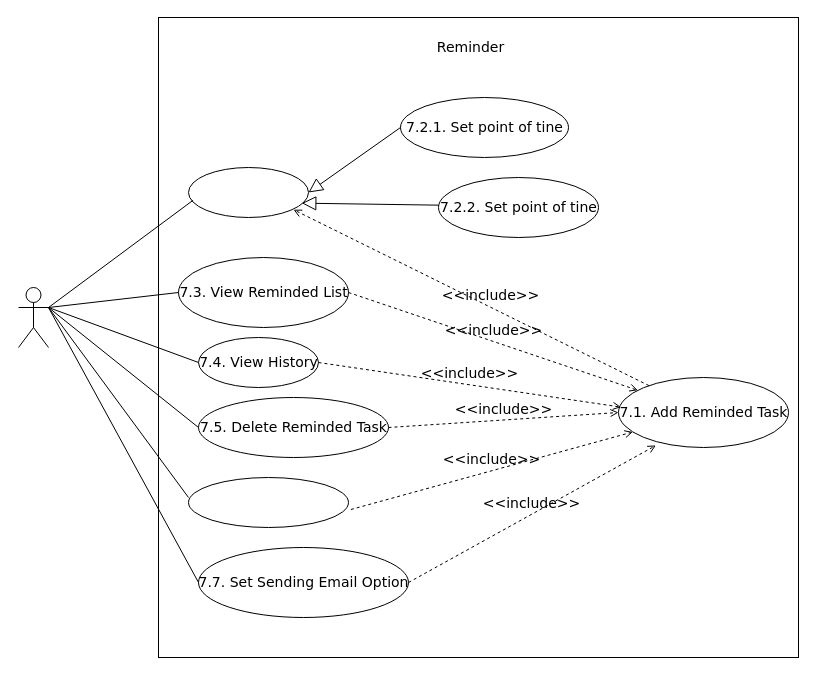
This 816x675 diagram has some shape labels left out. Here are the shapes that lost their labels. From the top down, the centre of each, then its label:
At [248,192]: "7.2. Set time".
At [33,317]: "User".
At [268,502]: "7.6. Set Notification".
